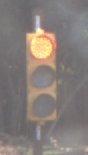Red: (16, 32, 61, 131)
